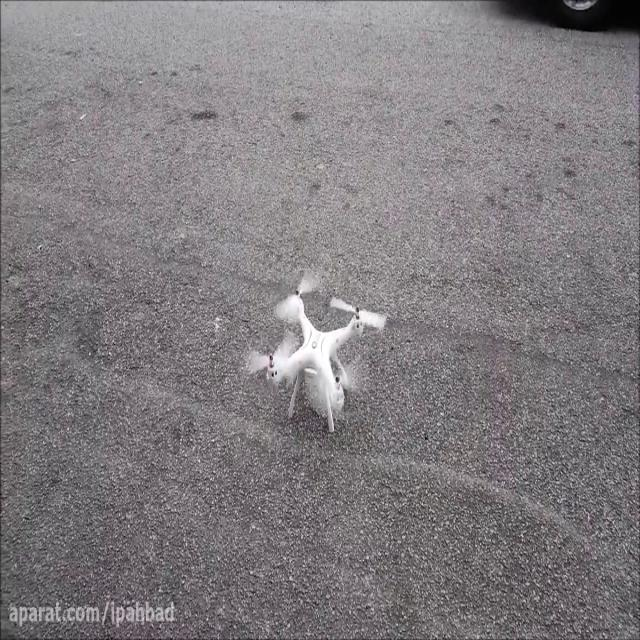drone: (245, 270, 385, 436)
